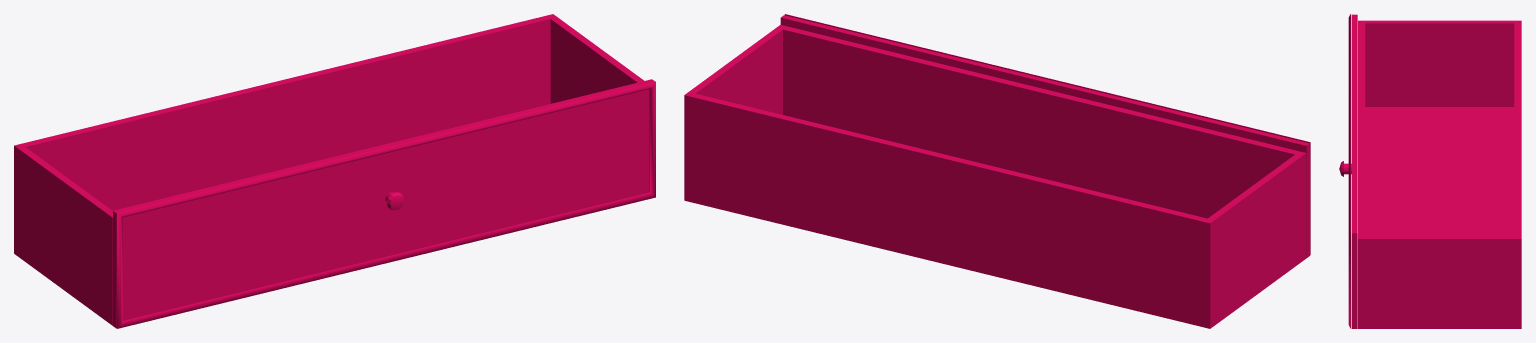
File: Cupboard_03_Drawer.fbx
3 views of the same model, side by side, from view 1: azimuth 30°, elevation 25°; view 2: azimuth 150°, elevation 25°; view 3: azimuth 270°, elevation 25° (orthographic). The views are drawn at different scales.
Parts seen in each view (by area): view 1: Cupboard_03_Drawer; view 2: Cupboard_03_Drawer; view 3: Cupboard_03_Drawer.
Part boxes in pixels (box(x1,y1,x2,y2)): Cupboard_03_Drawer: box(14, 14, 655, 328); Cupboard_03_Drawer: box(684, 14, 1310, 328); Cupboard_03_Drawer: box(1339, 14, 1521, 328).
Bounding box in the file's own units: 120 × 24.68 × 42.34.
